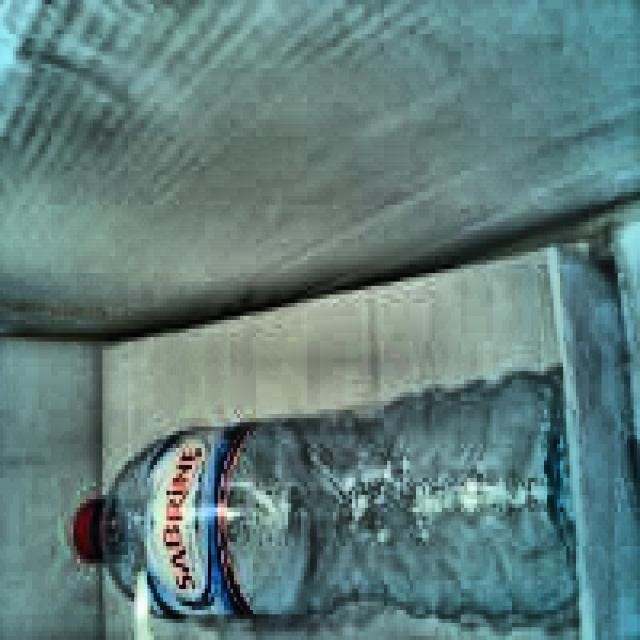plastic bottle: (64, 375, 579, 621)
